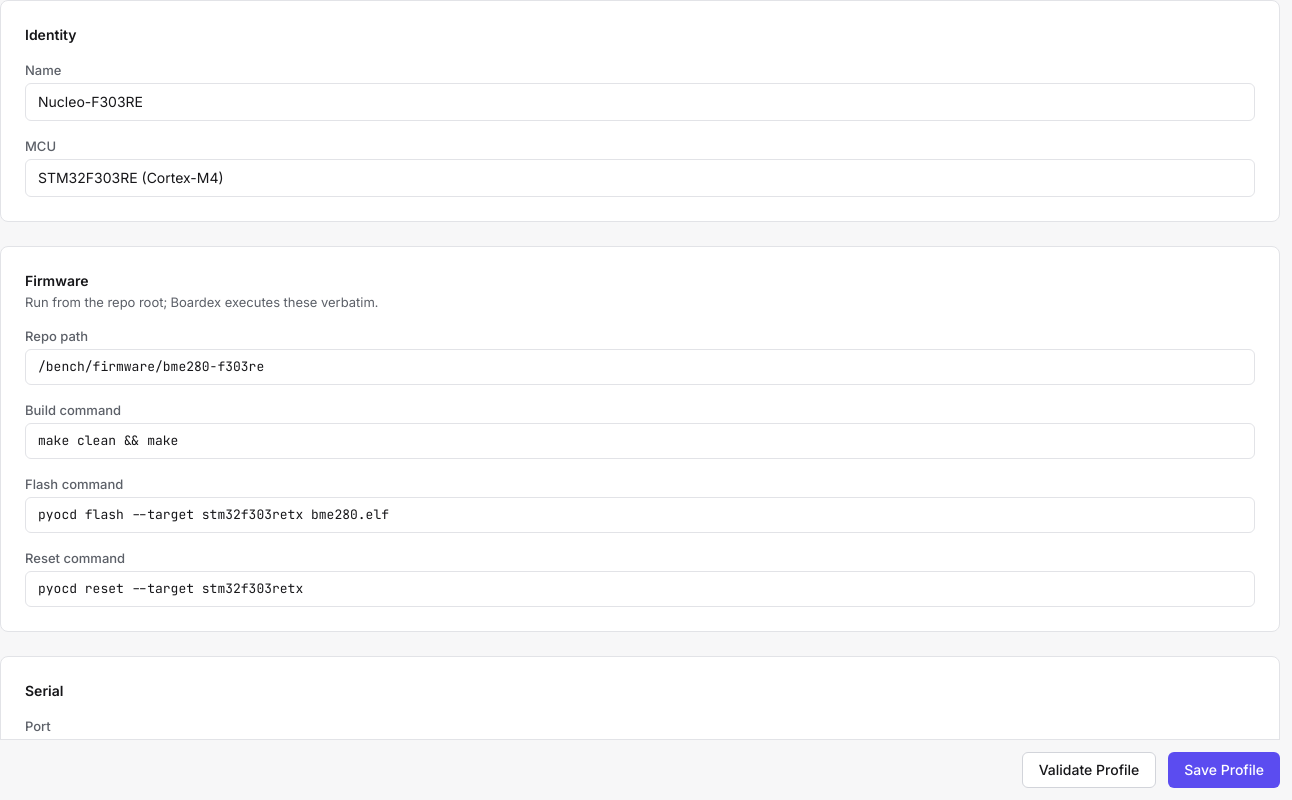
Test: Validate Profile against the bench (§7.5) › marks a matched but error device degraded, distinctly from missing
The image size is (1292, 800).
Click the button "Validate Profile" at (1089, 770), box [1022, 752, 1156, 788]
(page scrolled)
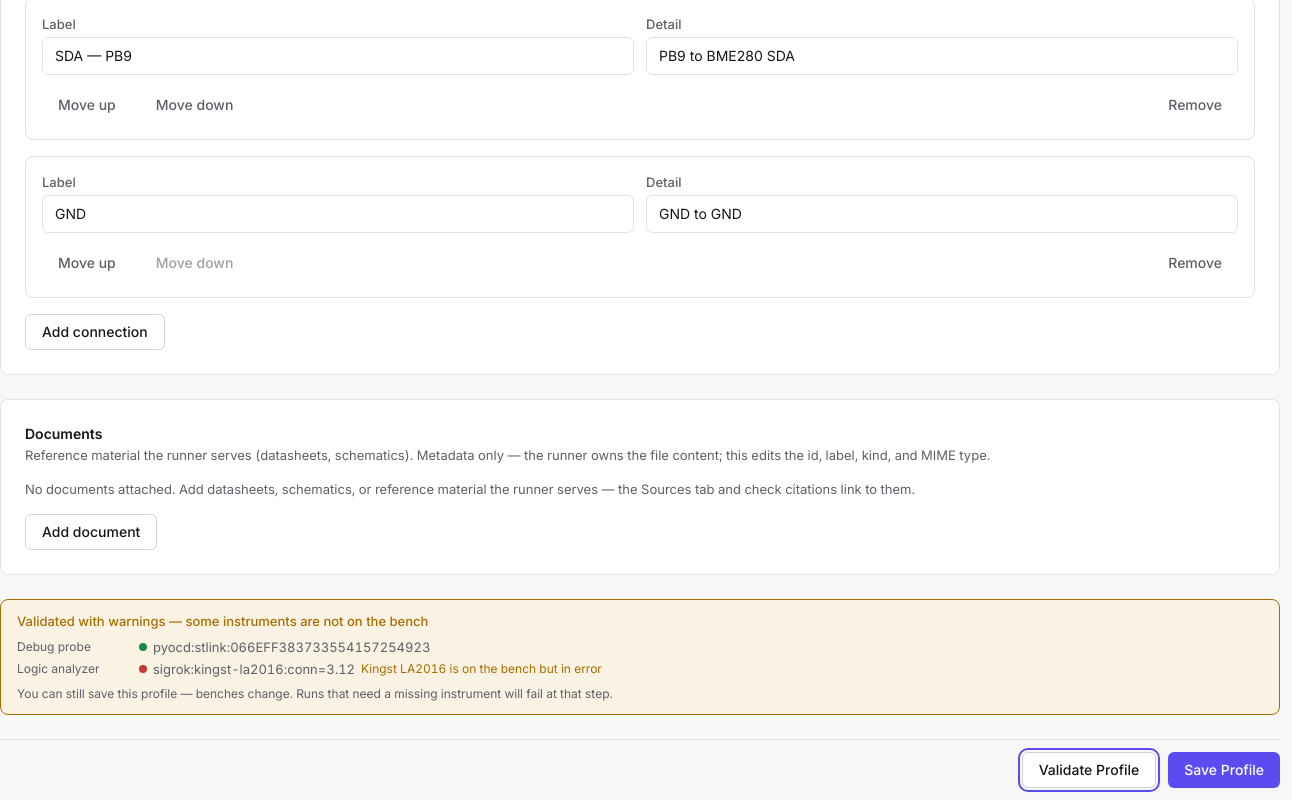
Check: the message named "Bench validation" shows "Validated with warnings", box [17, 613, 428, 629]
Check: the message named "Bench validation" shows "Kingst LA2016 is on the bench but in error", box [361, 661, 602, 676]
Check: the text "sigrok:kingst-la2016:conn=3.12" is shown, box [153, 660, 355, 678]
